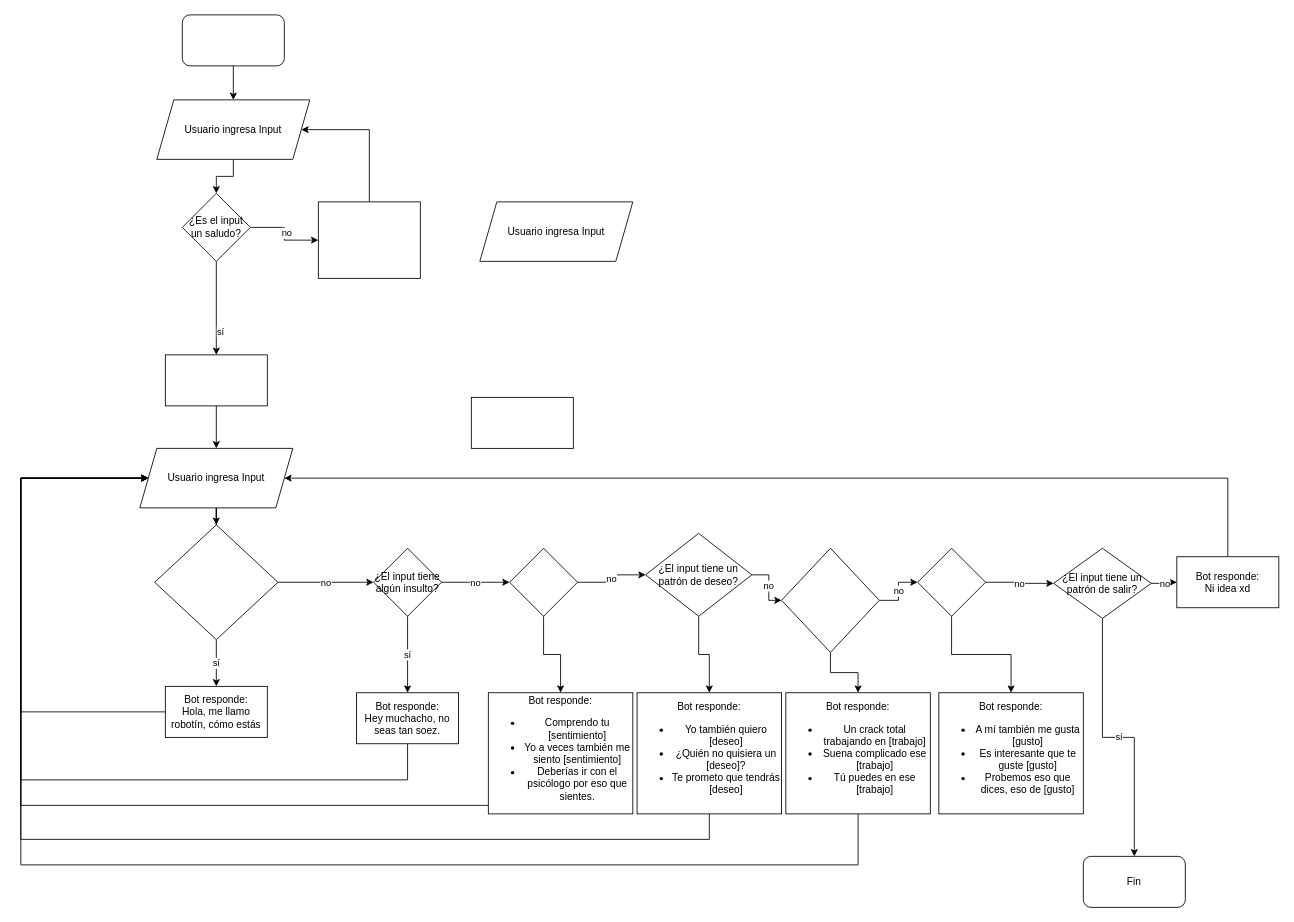
Some shapes in this 1294 by 922 pixel diagram are drawn without their labels. The centre of each missing label's shape, as x and y in pixels:
"Bot responde:" goes at pixel 521 422.
"Bot responde: Es importante ser educados e iniciar saludando, ahora salúdame" goes at pixel 368 239.
"Bot responde: Hola me llamo Robotín3000" goes at pixel 215 380.
"Inicio" goes at pixel 232 40.
"¿El input tiene el patrón robotín3000?" goes at pixel 216 582.
"¿El input tiene un patrón de gusto?" goes at pixel 951 581.
"¿El input tiene un patrón de sentimiento?" goes at pixel 543 581.
"¿El input tiene un patrón de trabajo?" goes at pixel 830 599.
